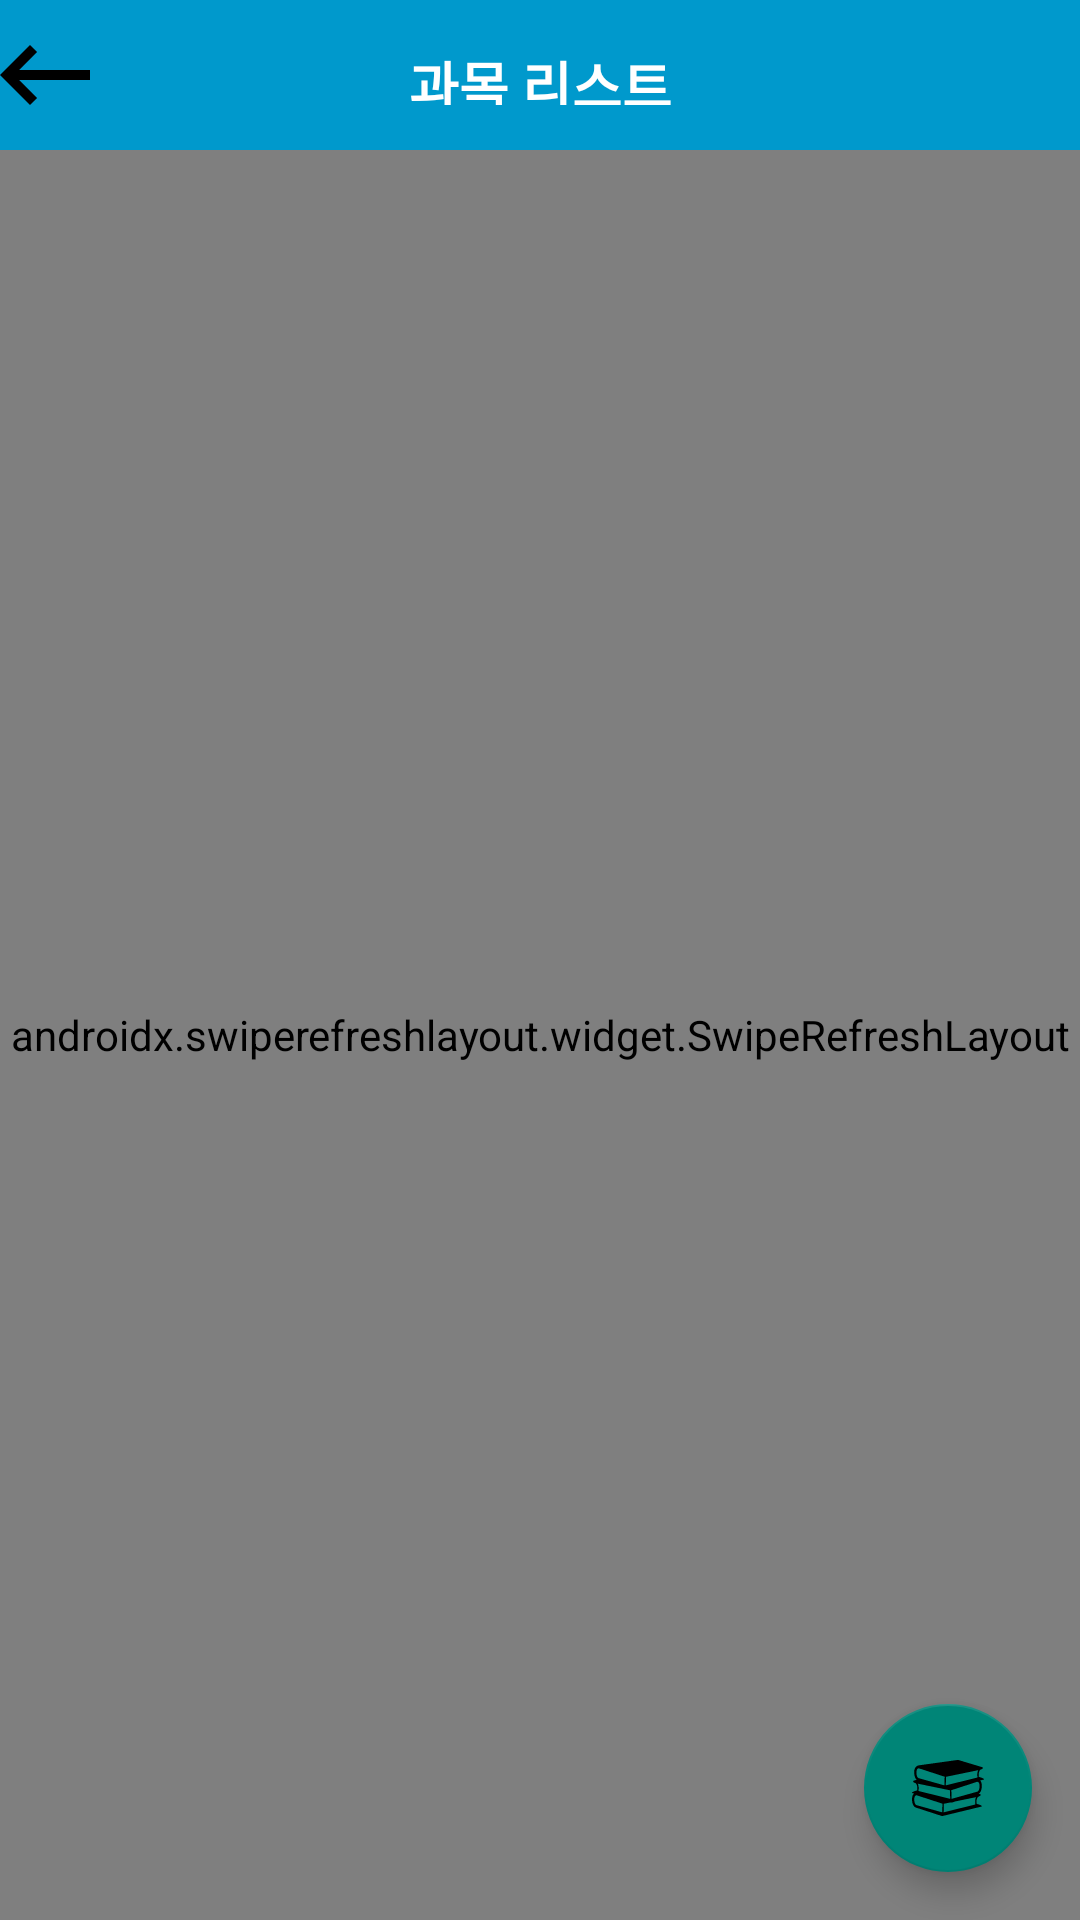

Where to tap for icons on this 1080*1920 app screen, as (x,y):
back: (45,75)
subject: (948,1788)
